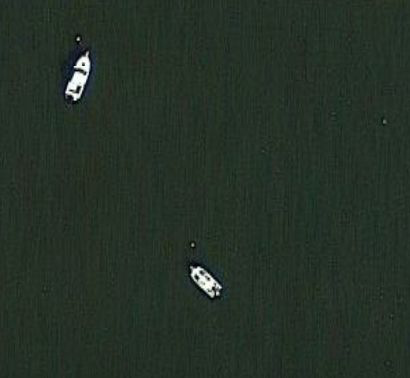boat: (63, 53, 96, 107), (189, 264, 225, 301)
